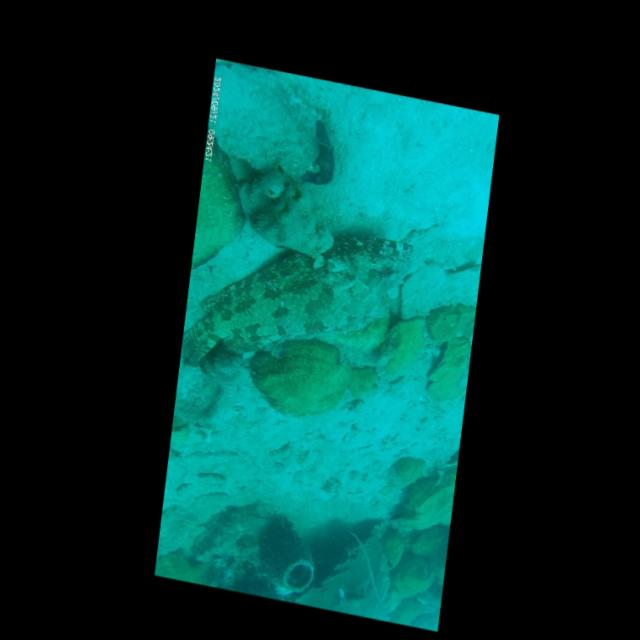Groupers: (175, 198, 421, 410)
